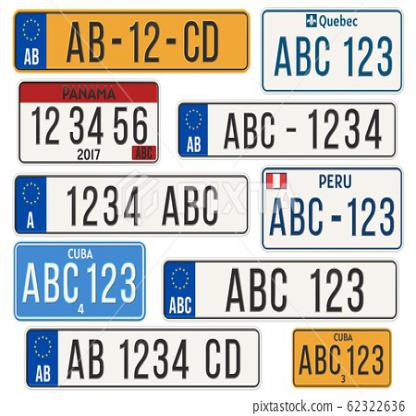Plates: (160, 258, 400, 322), (23, 327, 263, 390), (176, 94, 397, 160), (12, 174, 250, 232), (256, 9, 404, 94), (258, 165, 404, 249), (16, 79, 160, 161), (10, 241, 148, 321), (291, 327, 395, 393)
